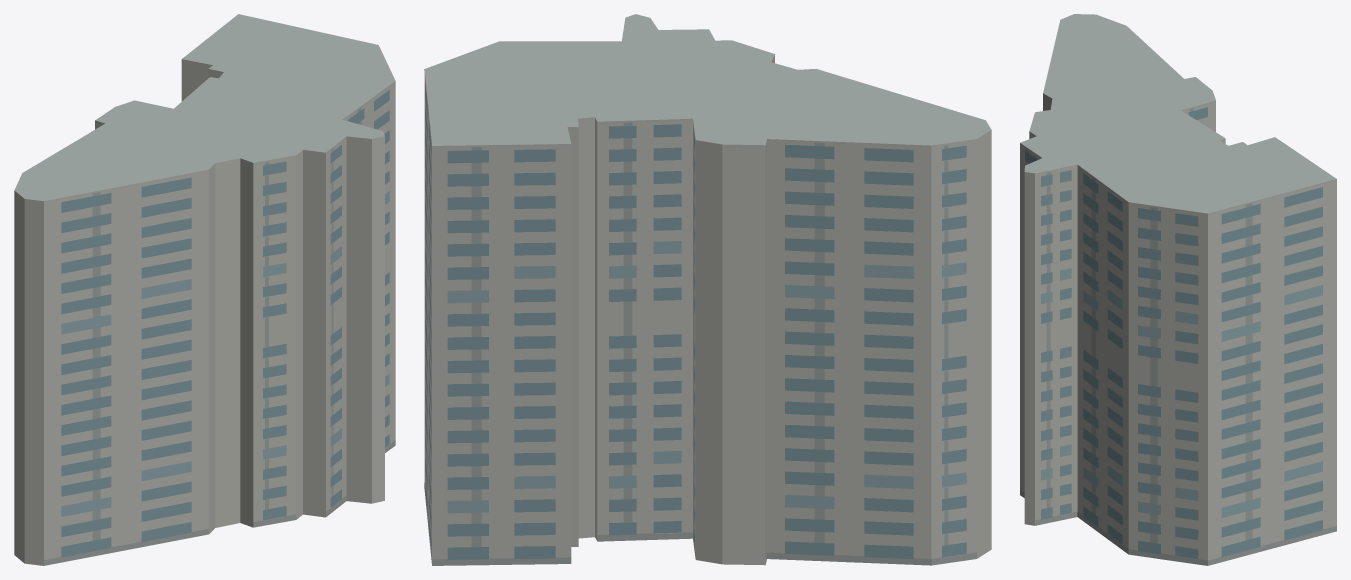
File: residential-c236ceed-79fd-4e1c-a8d7-07533b0a24e8.glb
3 views of the same model, side by side, from view 1: azimuth 30°, elevation 25°; view 2: azimuth 150°, elevation 25°; view 3: azimuth 270°, elevation 25° (orthographic). The views are drawn at different scales.
Visible parts, largest first — view 1: residential-c236ceed-79fd-4e1c-a8d7-07533b0a24e8.tmp; view 2: residential-c236ceed-79fd-4e1c-a8d7-07533b0a24e8.tmp; view 3: residential-c236ceed-79fd-4e1c-a8d7-07533b0a24e8.tmp.
Part boxes in pixels (<box>): residential-c236ceed-79fd-4e1c-a8d7-07533b0a24e8.tmp: <box>14,14,395,565</box>; residential-c236ceed-79fd-4e1c-a8d7-07533b0a24e8.tmp: <box>424,14,991,565</box>; residential-c236ceed-79fd-4e1c-a8d7-07533b0a24e8.tmp: <box>1020,14,1336,565</box>.
Size of the model in its own units: 68.01 by 56 by 45.64.
